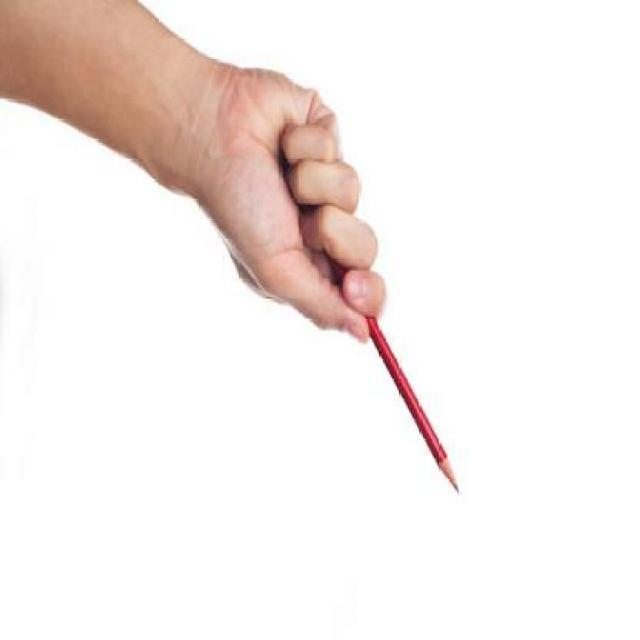Pencil: (430, 444, 467, 502)
